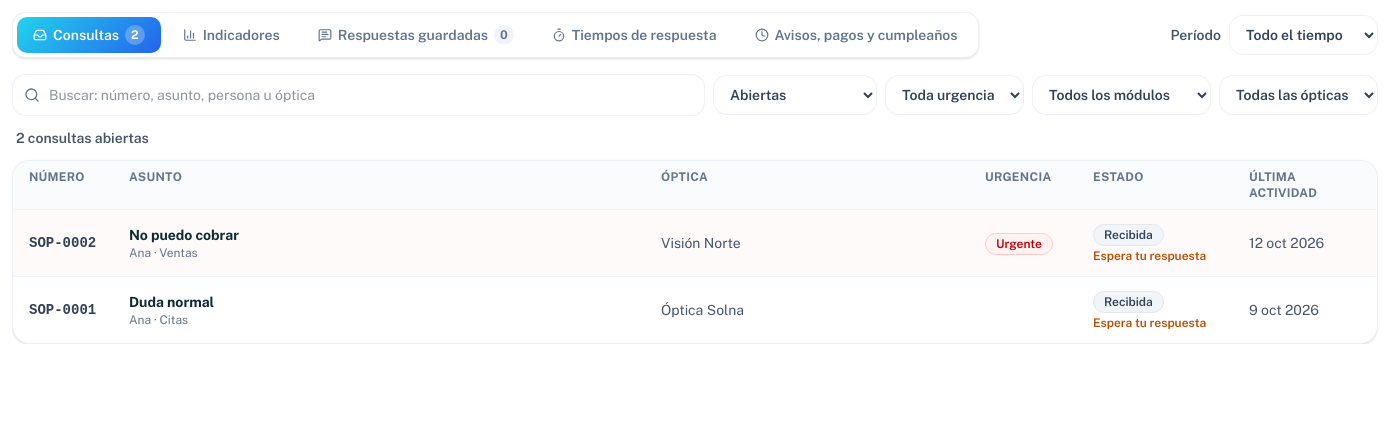
Soporte del superadmin: bandeja › filtra por estado, urgencia, módulo y óptica, y 'Limpiar' los quita
The image size is (1390, 439).
Select "Todos los estados" in the dropdown named "Filtrar por estado" at coordinates (795, 95), box [713, 75, 877, 115]
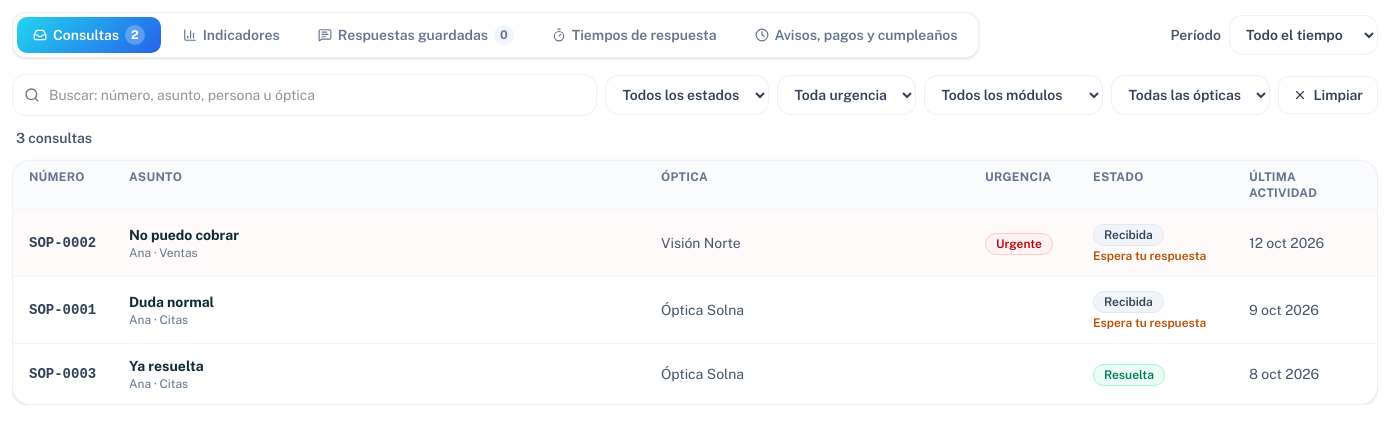
Expected: the number of list items is 3, [13, 210, 1377, 277]; [13, 277, 1377, 344]; [29, 356, 1319, 391]
Select "Urgente" in the dropdown named "Filtrar por urgencia" at coordinates (847, 95), box [777, 75, 916, 115]
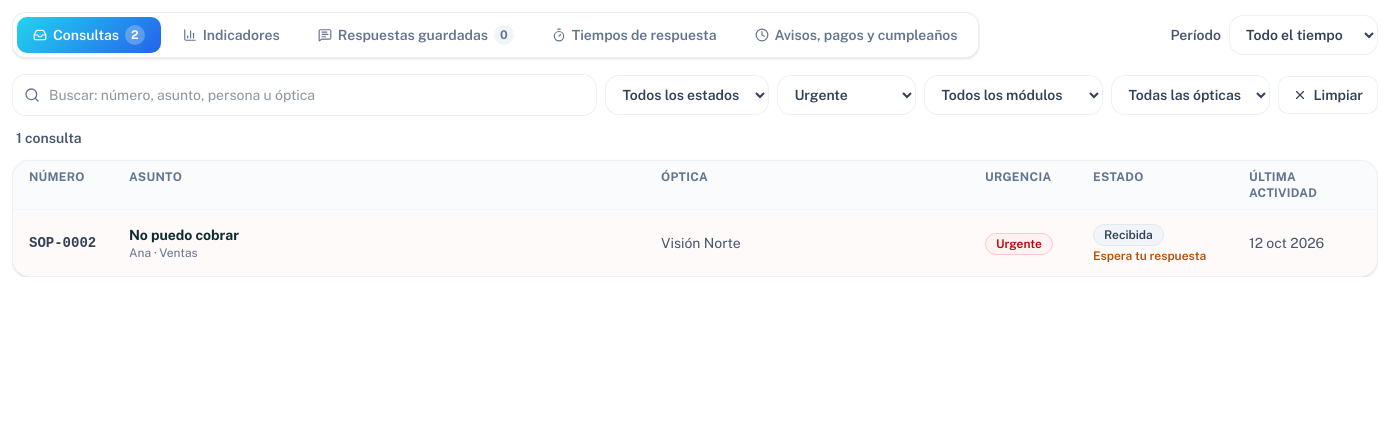
Expected: the number of list items is 1, [13, 210, 1377, 276]
Select "Toda urgencia" in the dropdown named "Filtrar por urgencia" at coordinates (847, 95), box [777, 75, 916, 115]
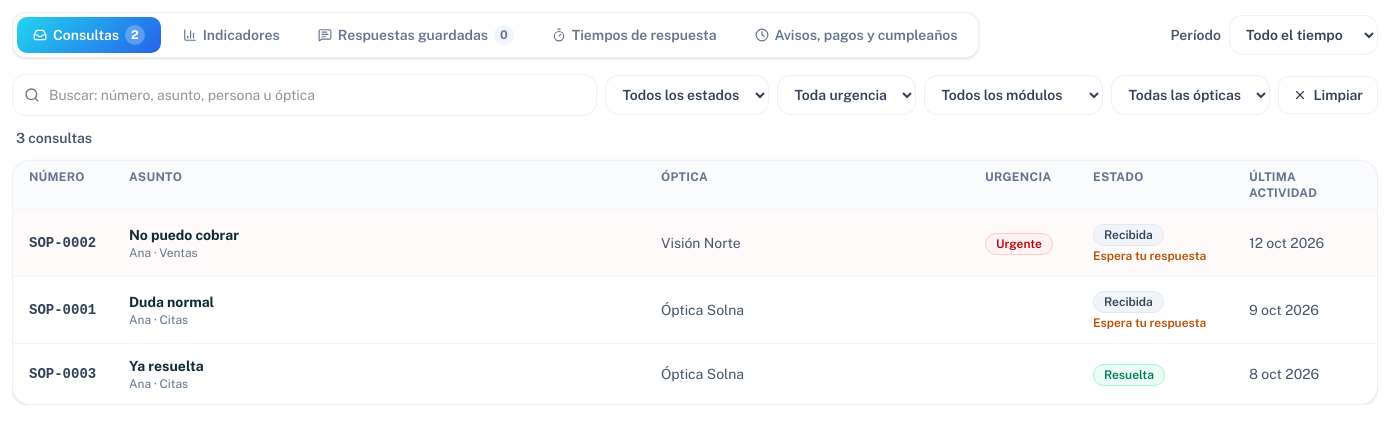
Select "Citas" in the dropdown named "Filtrar por módulo" at coordinates (1014, 95), box [924, 75, 1103, 115]
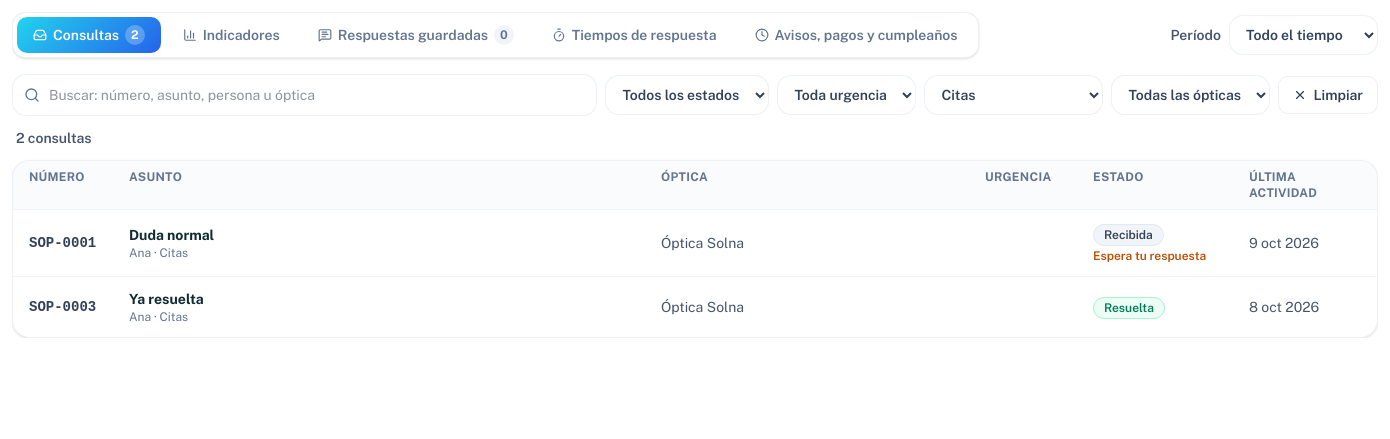
Expected: the number of list items is 2, [13, 210, 1377, 277]; [29, 289, 1319, 324]
Select "Visión Norte" in the dropdown named "Filtrar por óptica" at coordinates (1191, 95), box [1111, 75, 1270, 115]
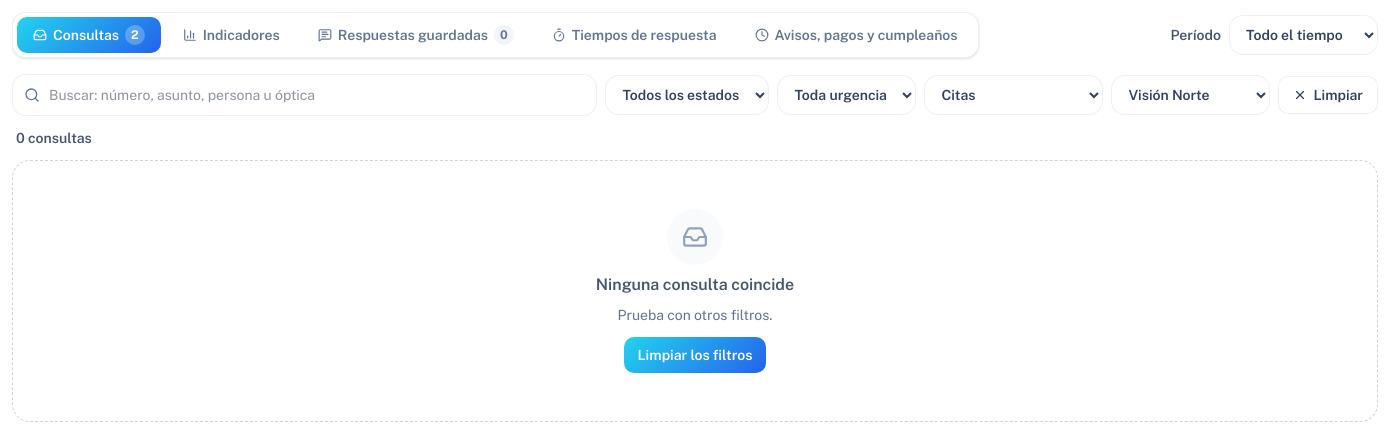
Expected: the text "Ninguna consulta coincide" is shown, [596, 273, 794, 297]
Click the button "Limpiar".
click(1328, 95)  # box [1278, 76, 1378, 114]
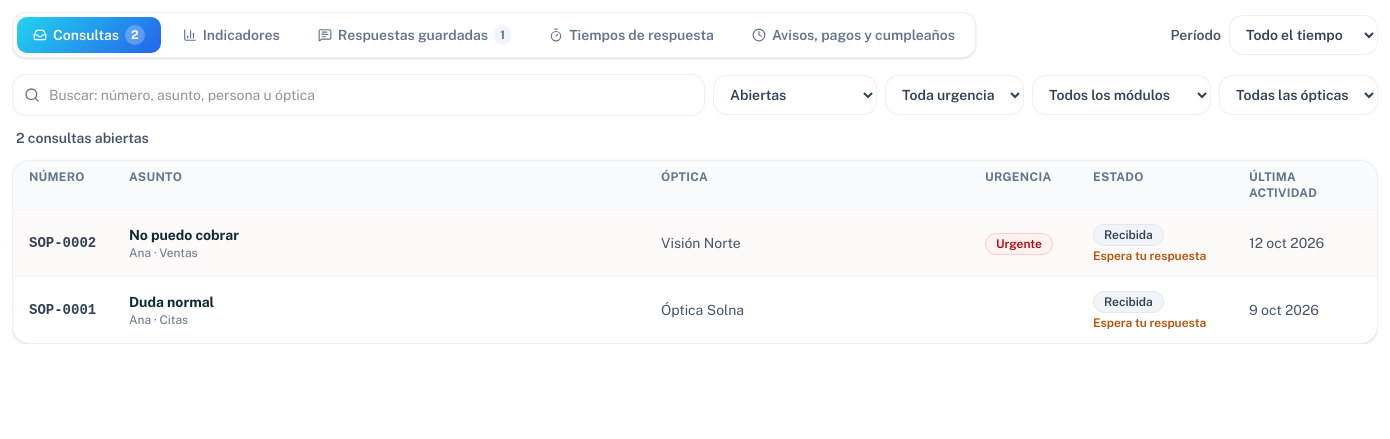
Expected: the number of list items is 2, [13, 210, 1377, 277]; [29, 291, 1319, 330]
